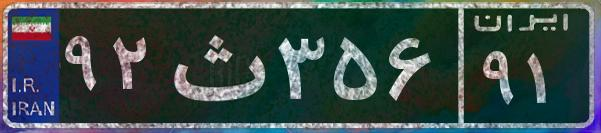1: (525, 38, 570, 115)
2: (110, 28, 158, 105)
3: (273, 28, 330, 110)
5: (330, 28, 385, 110)
6: (385, 28, 445, 110)
9: (57, 26, 110, 107), (475, 38, 525, 113)
ث: (158, 15, 273, 115)
